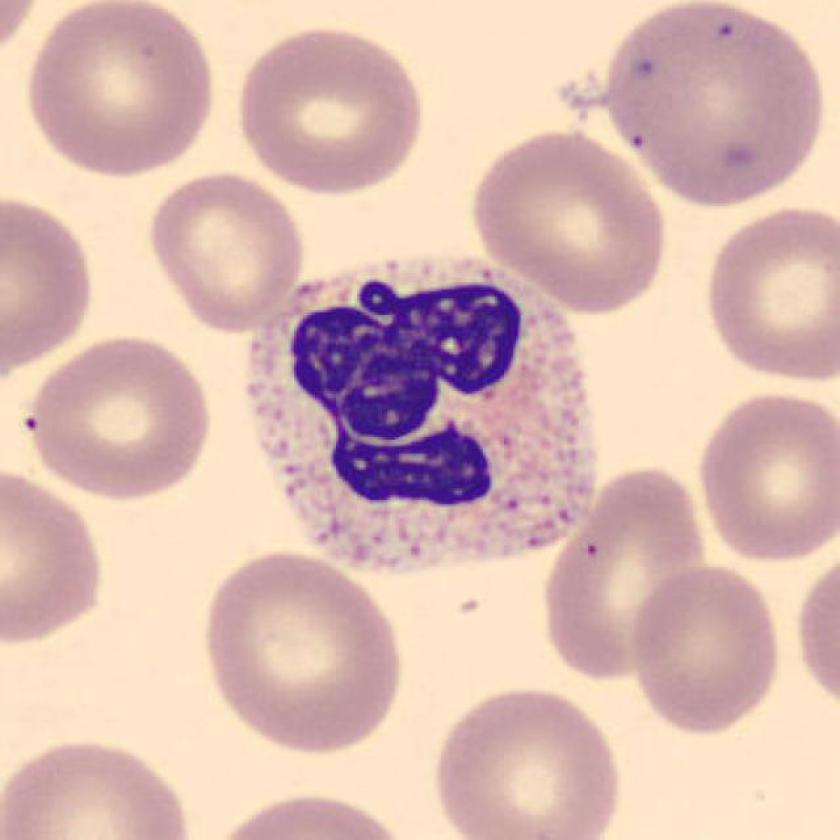neutrophil: (251, 261, 596, 571)
